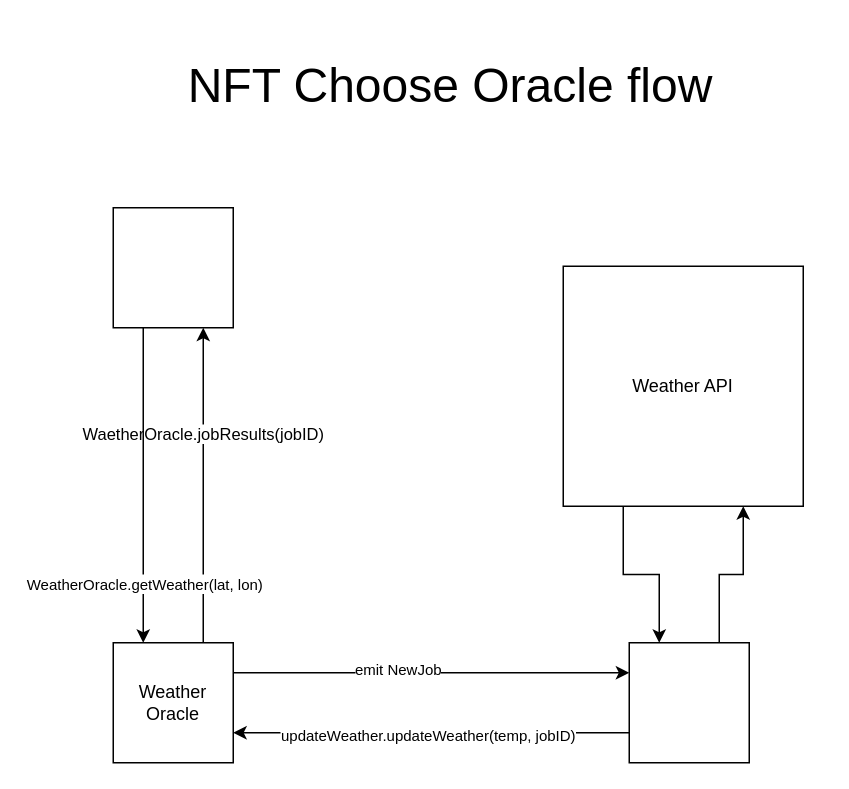
The diagram is 849 pixels wide and 789 high, and some of its shapes have lost their labels. The centre of each missing label's shape, as x and y in pixels:
OurServer (Listening event NewJob): pixel 688 702
Weather: pixel 172 267
